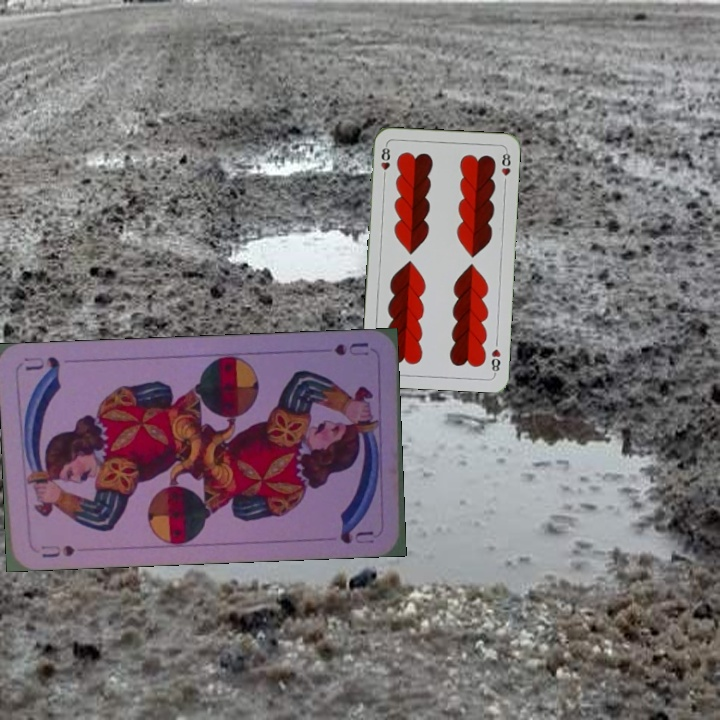H8: (376, 142, 393, 182), (487, 345, 503, 376)
SU: (330, 338, 371, 358), (38, 541, 77, 561)
